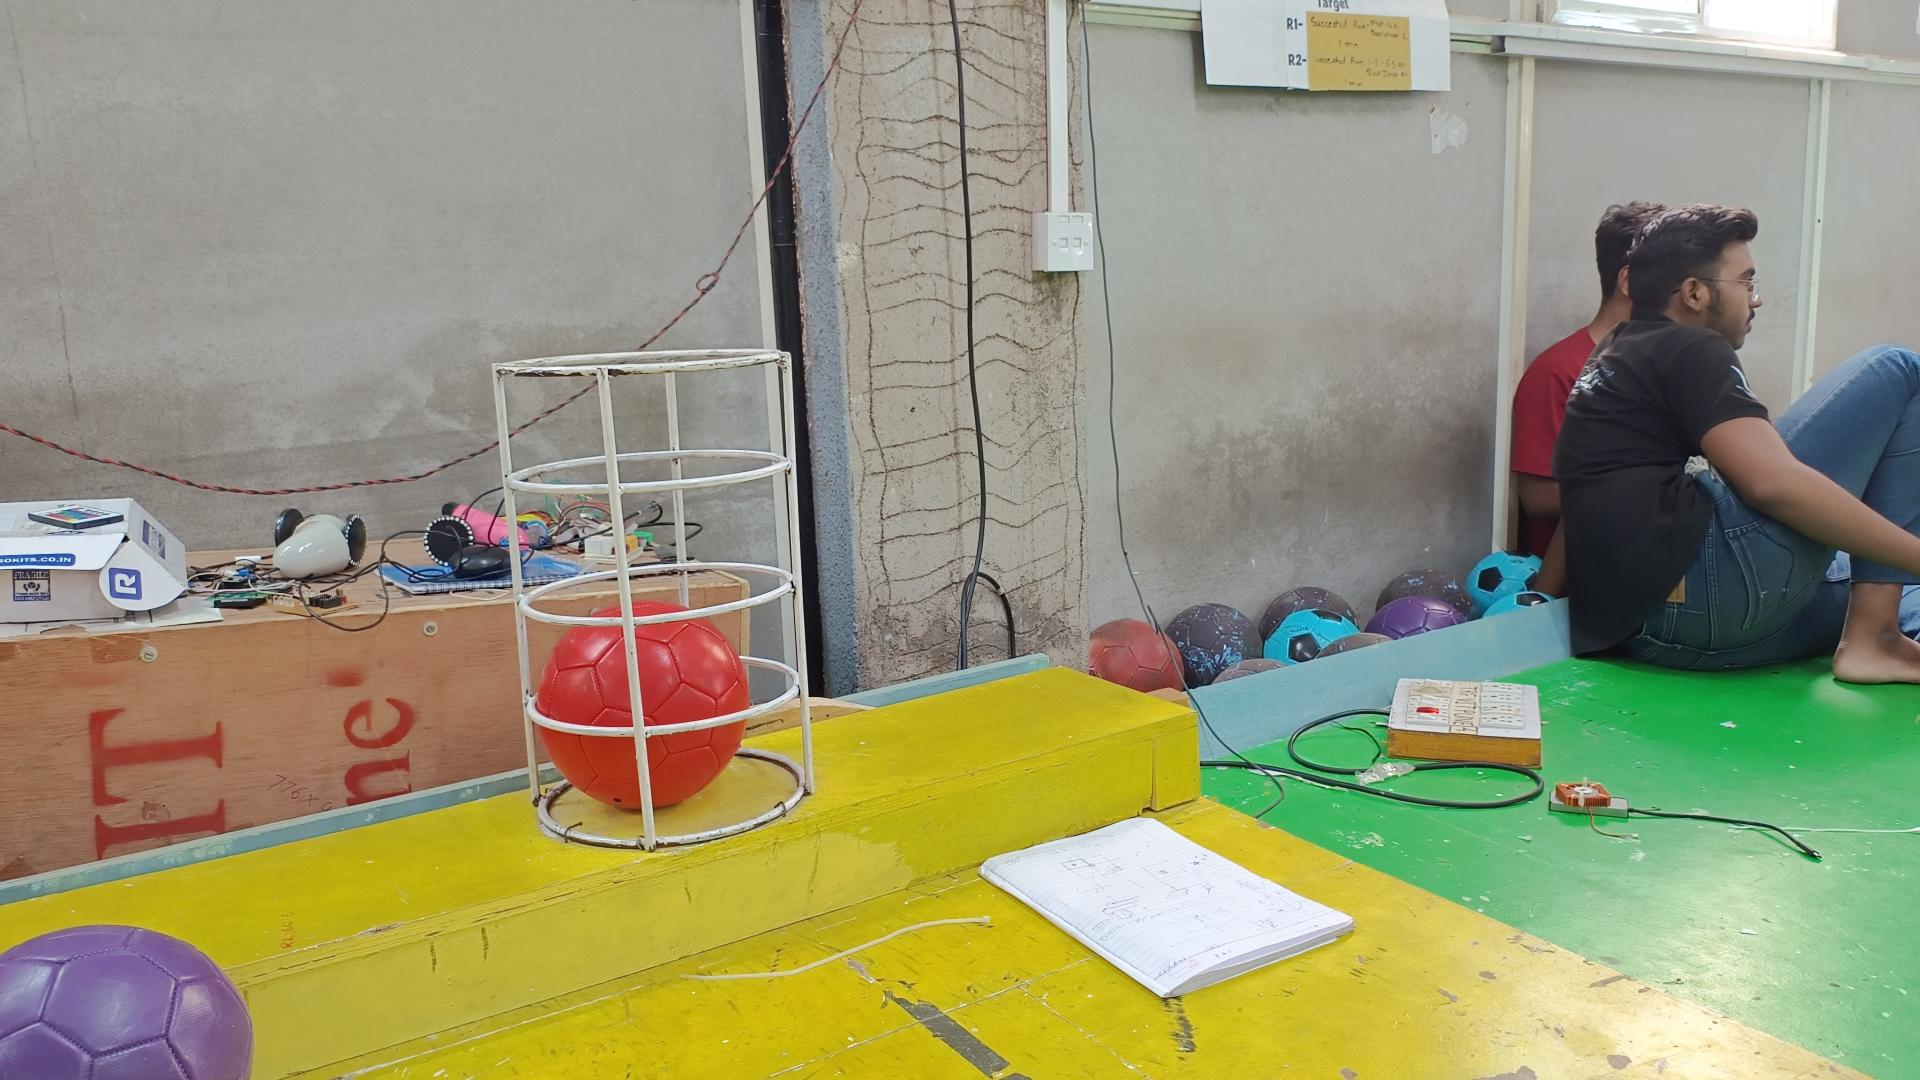laale: (537, 596, 750, 814)
